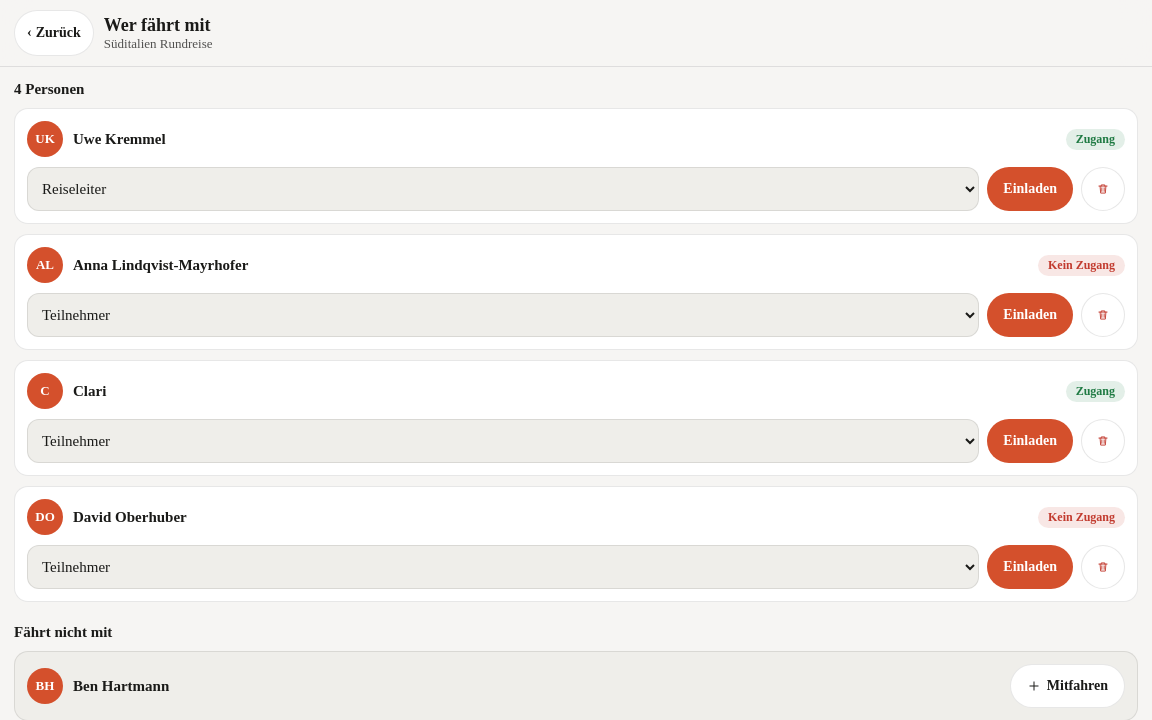
Test case: „Wer fährt mit“ im Begleiter -- hinzufügen (req-087) › stellt Ben nach dem Hinzufuegen als Teilnehmer in die Liste
Click the button with aria-label "Zur Reise hinzufügen: Ben Hartmann". click: point(1067, 686)
box: [1010,664,1125,708]
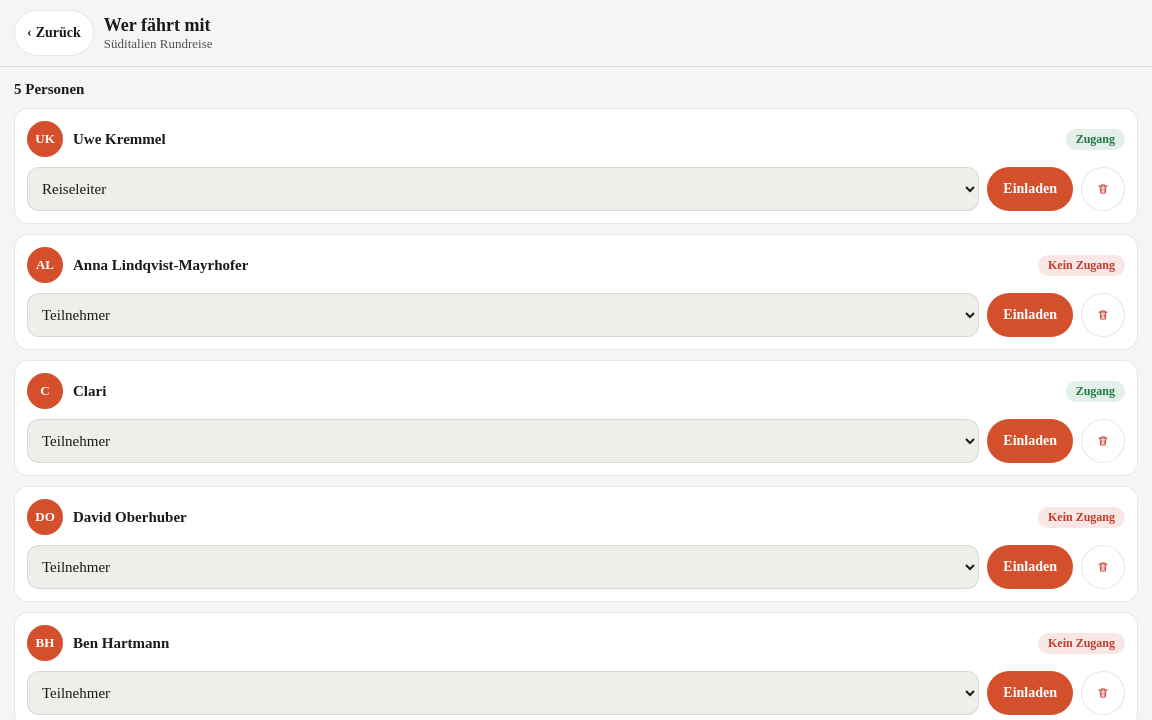
Expected: the number of list items with test id "mitreisender" is 5, [14,108,1138,224]; [14,234,1138,350]; [14,360,1138,476]; [14,486,1138,602]; [14,612,1138,719]
Expected: the dropdown named "Rolle: Ben Hartmann" shows "Teilnehmer", [27,671,979,715]
Expected: the heading "Fährt nicht mit" is gone
